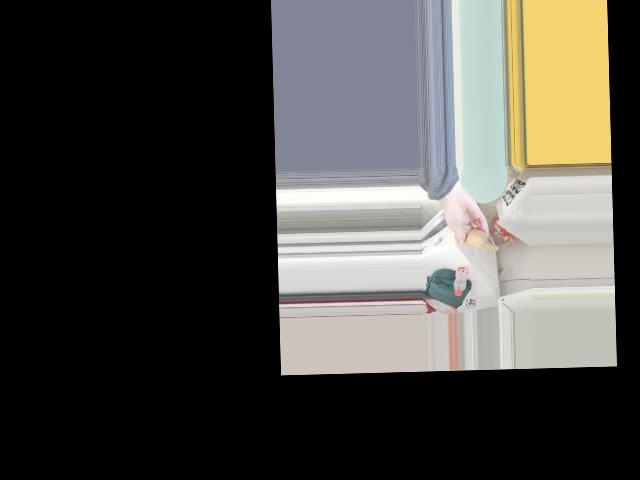sweet_potato: (458, 229, 486, 249)
